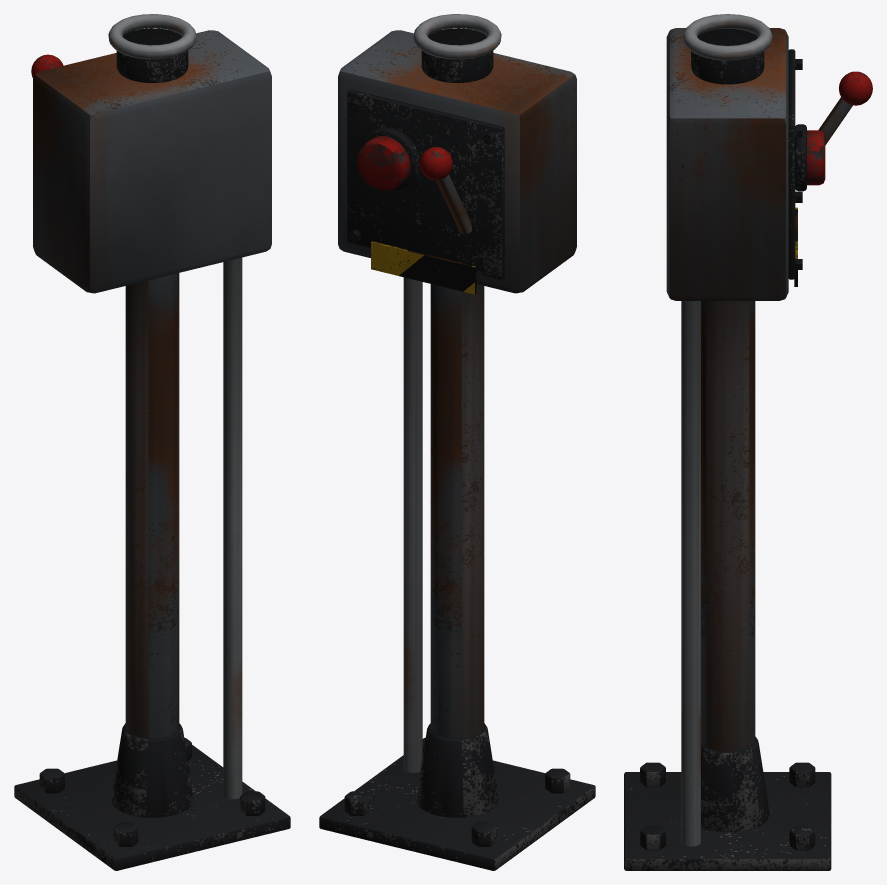
Rendered from post.gltf.
3 views of the same model, side by side, from view 1: azimuth 30°, elevation 25°; view 2: azimuth 150°, elevation 25°; view 3: azimuth 270°, elevation 25° (orthographic).
Visible parts, largest first — view 1: post; view 2: post; view 3: post.
Part boxes in pixels (left/top/right/bottom): post: left=14, top=14, right=290, bottom=870; post: left=319, top=14, right=595, bottom=870; post: left=624, top=14, right=872, bottom=870.
Size of the model in its own units: 0.36 by 1.44 by 0.408.
5 materials, 5 textured.
